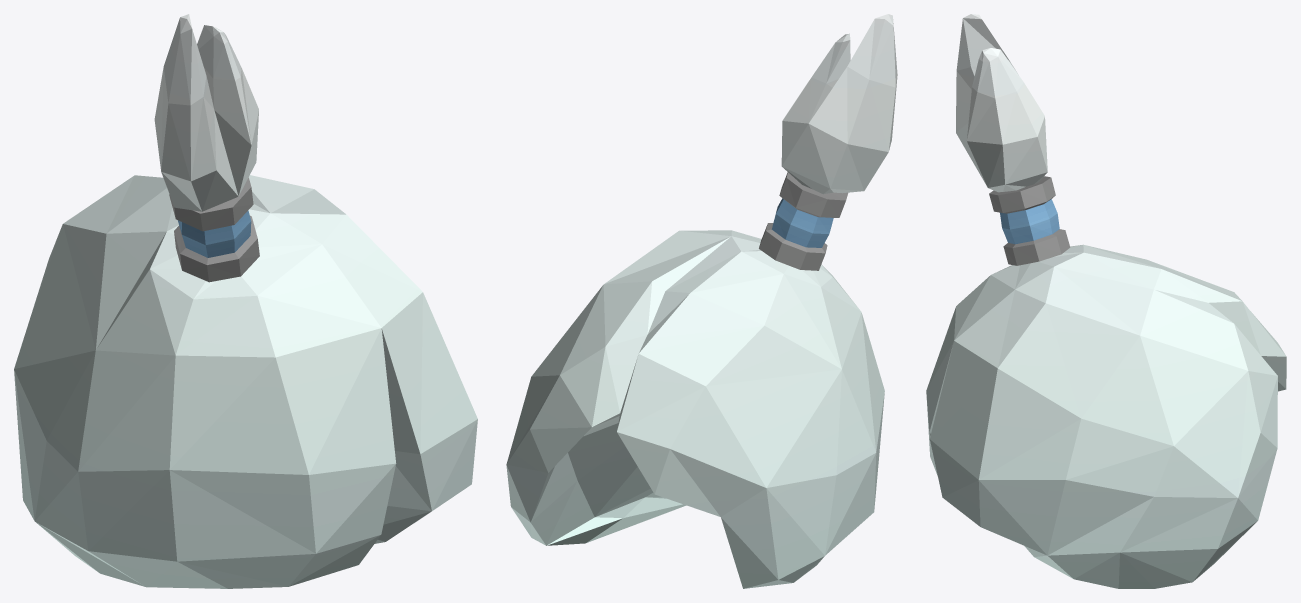
The model's file is CharSkyKid_Hair_BraidBack.glb.
The picture shows the model from 3 angles, left to right: view 1: azimuth 30°, elevation 25°; view 2: azimuth 150°, elevation 25°; view 3: azimuth 270°, elevation 25°; orthographic projection. The views are drawn at different scales.
Parts seen in each view (by area): view 1: CharSkyKid_Hair_BraidBack; view 2: CharSkyKid_Hair_BraidBack; view 3: CharSkyKid_Hair_BraidBack.
Part boxes in pixels (x1,y1,x2,y2): CharSkyKid_Hair_BraidBack: (14,14,477,588); CharSkyKid_Hair_BraidBack: (506,14,897,588); CharSkyKid_Hair_BraidBack: (926,14,1286,588).
Bounding box in the file's own units: 3.05 × 4.9 × 3.34.
1 material, 1 textured.
